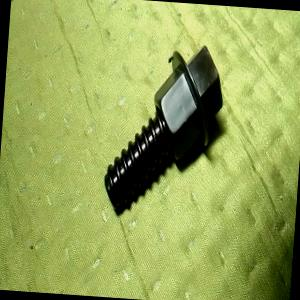parafuso: (100, 38, 227, 220)
